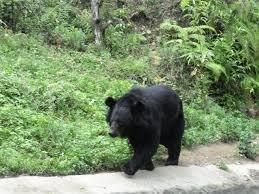bear: (106, 83, 185, 176)
